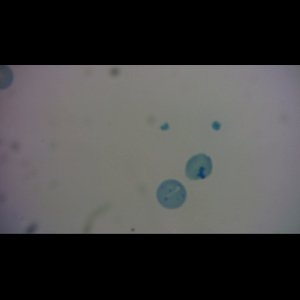erythrocyte: (184, 153, 214, 182)
punctate reticulocyte: (156, 179, 188, 210)
